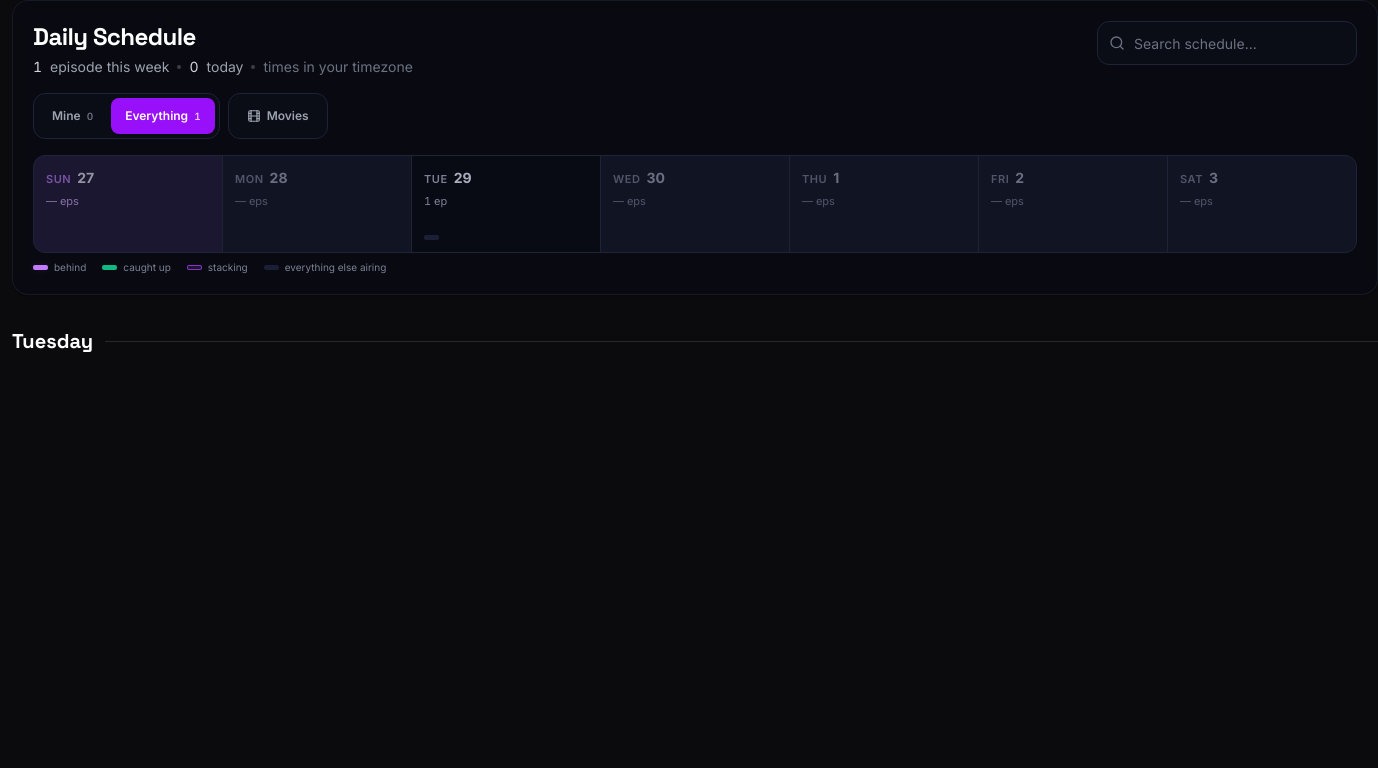
Test: DailySchedule Mine / Everything › offers the way out when Mine empties the week
Click the button "Mine 0" at [73, 116], box x1=38 y1=98 x2=107 y2=134
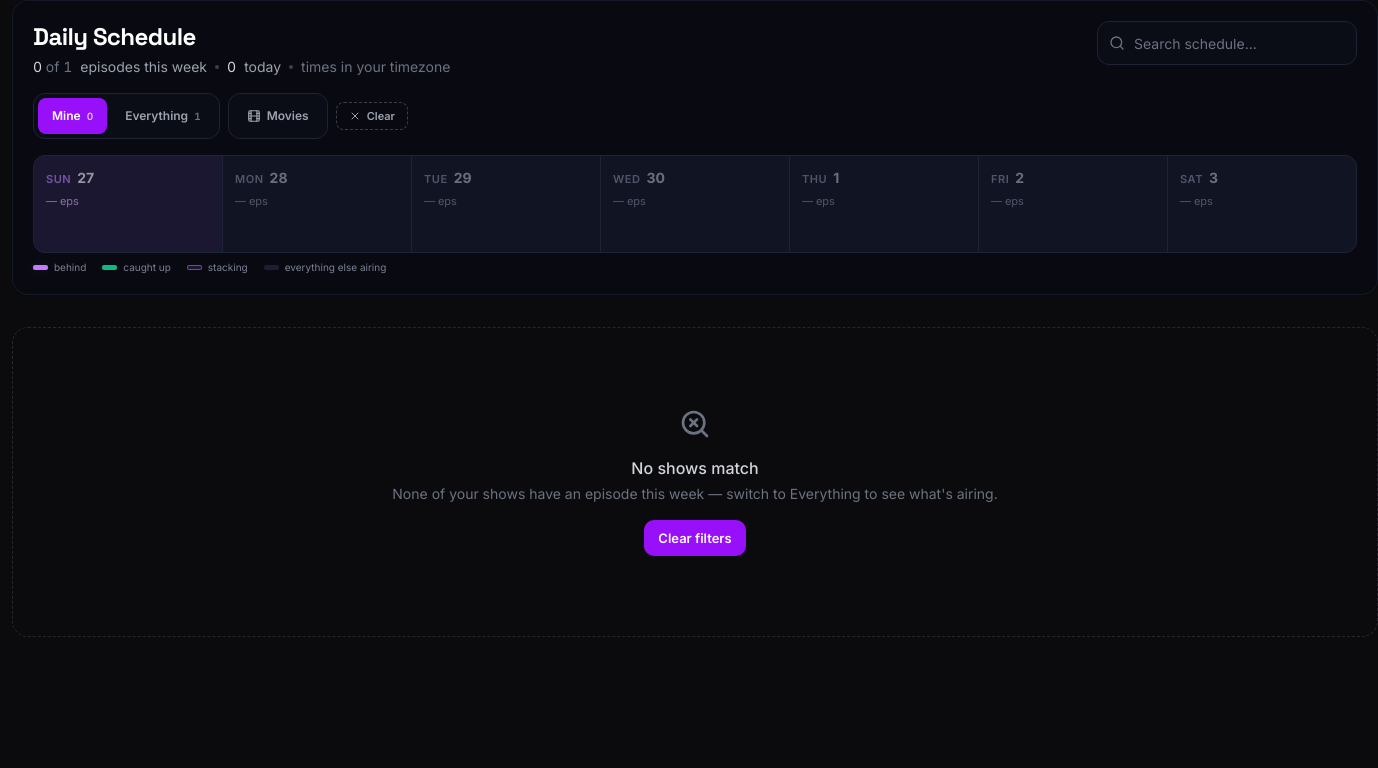
Check: the text "None of your shows have an episode this week" is shown, box x1=392 y1=485 x2=998 y2=502
